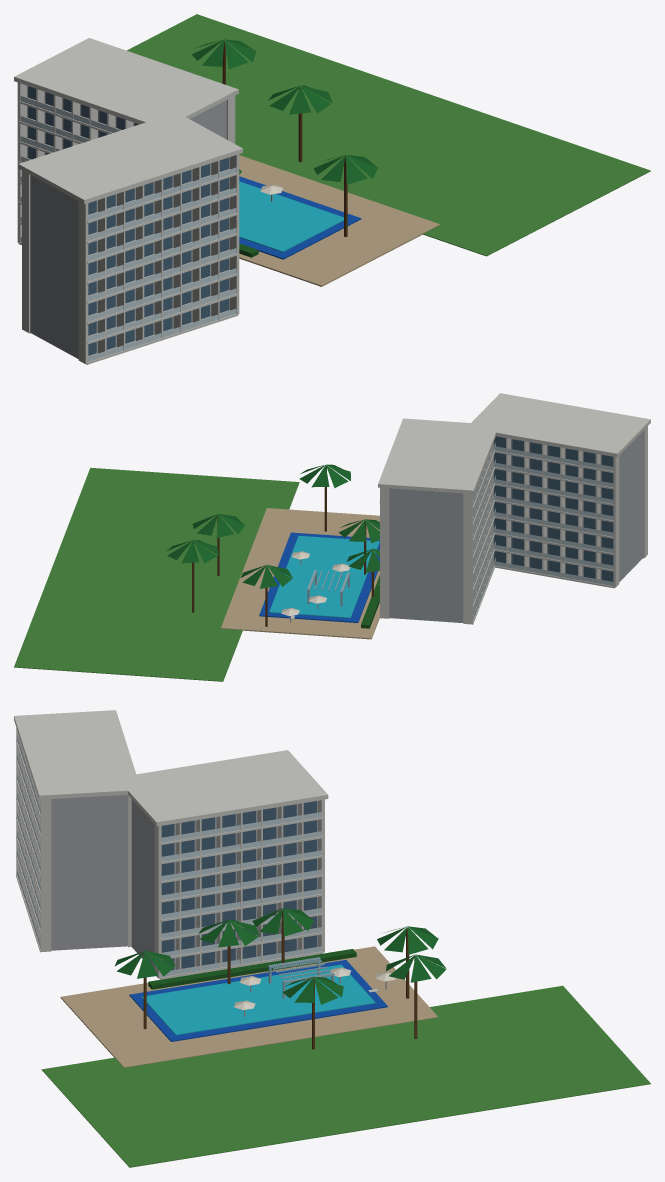
Rendered from azure_residences.glb.
The picture shows the model from 3 angles, top to bottom: view 1: azimuth 30°, elevation 25°; view 2: azimuth 150°, elevation 25°; view 3: azimuth 270°, elevation 25°; orthographic projection. The views are drawn at different scales.
Parts seen in each view (by area): view 1: azure_residences_lod0; view 2: azure_residences_lod0; view 3: azure_residences_lod0.
Boxes of the visible parts, box(x1,y1,x2,y2) form: azure_residences_lod0: box(14, 14, 650, 364); azure_residences_lod0: box(14, 393, 650, 681); azure_residences_lod0: box(14, 710, 650, 1167).
Size of what is drawn, in the model's own units: 108 by 27.2 by 97.77.
